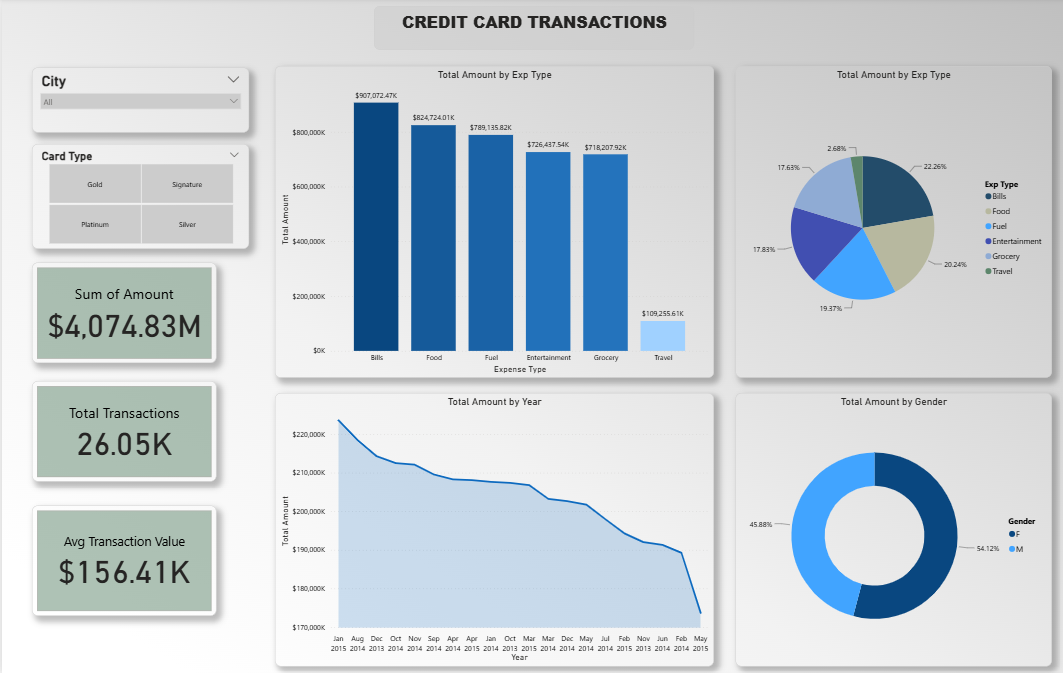

The page's visual inventory and layout, read from the dashboard file:
{"tool":"powerbi","page":{"name":"Page 1","canvas":[1800,1150],"ordinal":0},"visuals":[{"type":"cardVisual","fields":{"Data":["Sum(Credit card transactions - India - Simple.Amount)"]},"box":[50,450,311.7,170],"z":0},{"type":"cardVisual","fields":{"Data":["CountNonNull(Credit card transactions - India - Simple.Amount)"]},"box":[50,650,311.7,170],"z":1000},{"type":"cardVisual","fields":{"Data":["Avg(Credit card transactions - India - Simple.Amount)"]},"box":[50,860,311.7,186.7],"z":2000},{"type":"clusteredColumnChart","title":"Total Amount by Exp Type","fields":{"Y":["Sum(Credit card transactions - India - Simple.Amount)"],"Category":["Credit card transactions - India - Simple.Exp Type"]},"box":[462.5,117.5,742.5,527.5],"z":3000},{"type":"areaChart","title":"Total Amount by Year ","fields":{"Category":["Credit card transactions - India - Simple.MonthYear"],"Y":["Sum(Credit card transactions - India - Simple.Amount)"]},"box":[462.5,670,742.5,462.5],"z":4000},{"type":"donutChart","title":"Total Amount by Gender","fields":{"Category":["Credit card transactions - India - Simple.Gender"],"Y":["Sum(Credit card transactions - India - Simple.Amount)"]},"box":[1242.5,670,535,462.5],"z":5000},{"type":"pieChart","title":"Total Amount by Exp Type","fields":{"Category":["Credit card transactions - India - Simple.Exp Type"],"Y":["Sum(Credit card transactions - India - Simple.Amount)"]},"box":[1242.5,117.5,535,527.5],"z":6000},{"type":"slicer","fields":{"Values":["Credit card transactions - India - Simple.City"]},"box":[50,120,367.5,110],"z":7000},{"type":"slicer","fields":{"Values":["Credit card transactions - India - Simple.Card Type"]},"box":[50,250,367.5,177.5],"z":8000},{"type":"textbox","box":[629,16,542,74],"z":9000}]}

Visuals, with their boxes in screenshot pixels (x1, y1, x2, y2), scaled from the page's 1800x1150 canvas onto the 1063x673 screenshot:
cardVisual - Sum(Credit card transactions - India - Simple.Amount): box(30, 263, 214, 363)
cardVisual - CountNonNull(Credit card transactions - India - Simple.Amount): box(30, 380, 214, 480)
cardVisual - Avg(Credit card transactions - India - Simple.Amount): box(30, 503, 214, 613)
"Total Amount by Exp Type" clusteredColumnChart: box(273, 69, 712, 377)
"Total Amount by Year " areaChart: box(273, 392, 712, 663)
"Total Amount by Gender" donutChart: box(734, 392, 1050, 663)
"Total Amount by Exp Type" pieChart: box(734, 69, 1050, 377)
slicer - Credit card transactions - India - Simple.City: box(30, 70, 247, 135)
slicer - Credit card transactions - India - Simple.Card Type: box(30, 146, 247, 250)
textbox: box(371, 9, 692, 53)
